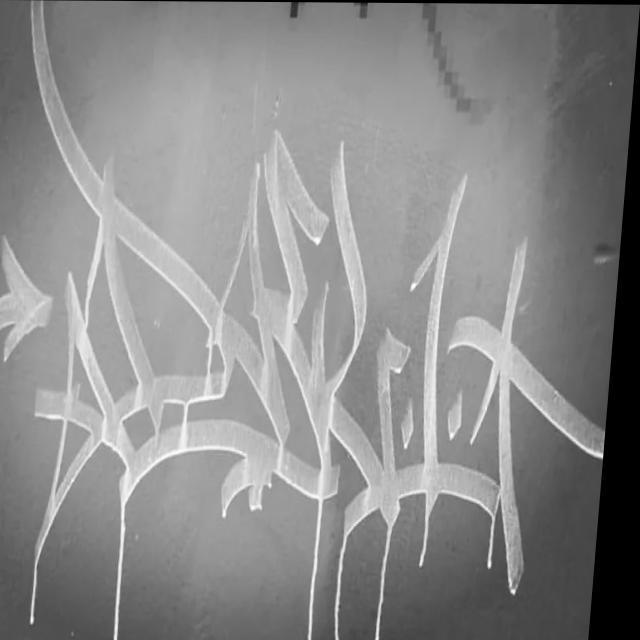nonspitting: (0, 0, 606, 597)
